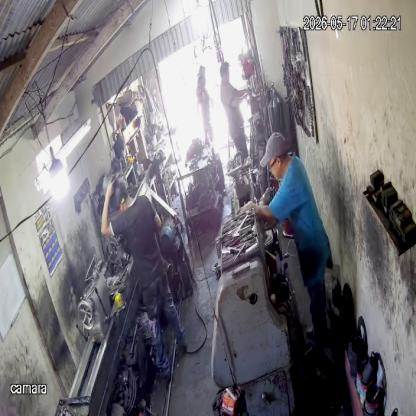lentes: (268, 155, 280, 171)
